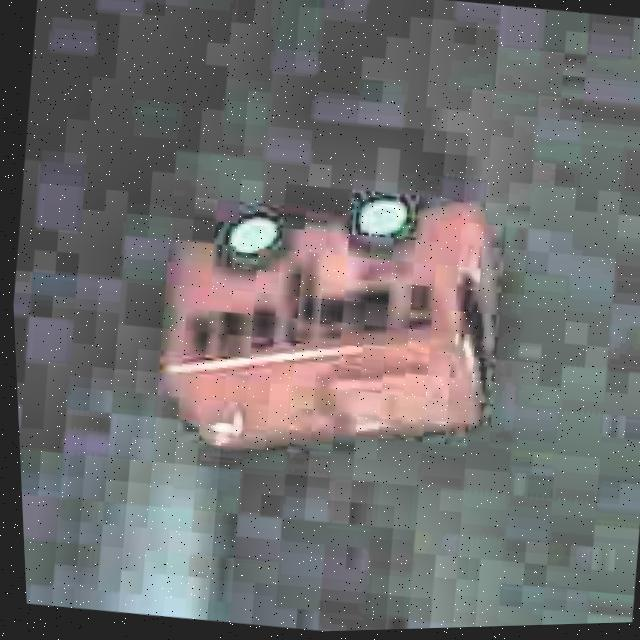bus: (131, 147, 531, 504)
